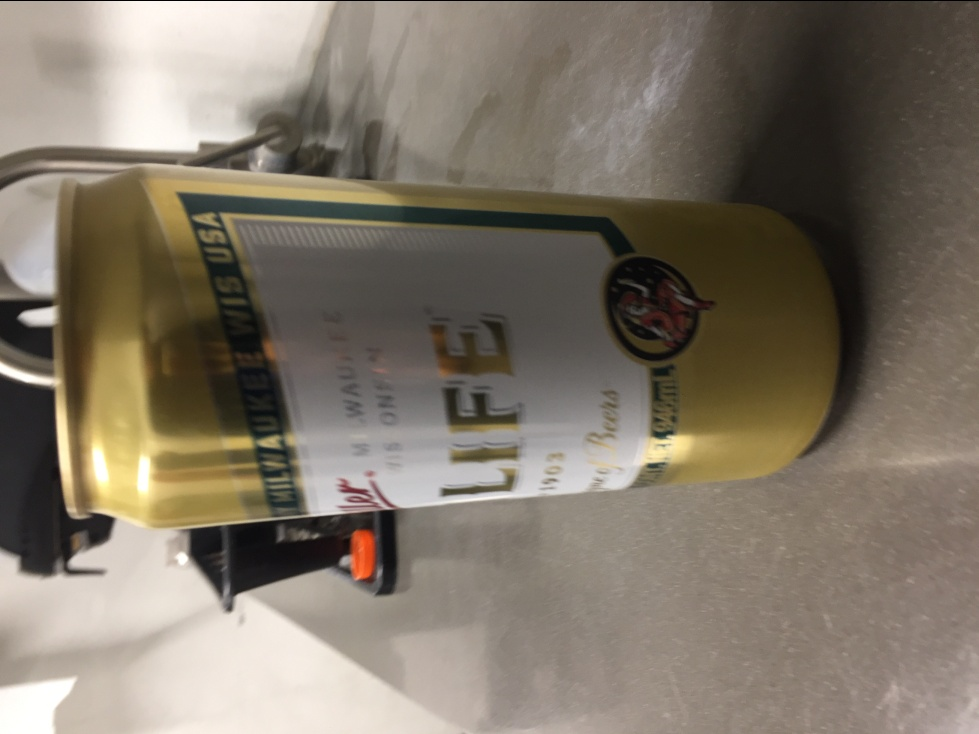miller: (43, 158, 848, 527)
